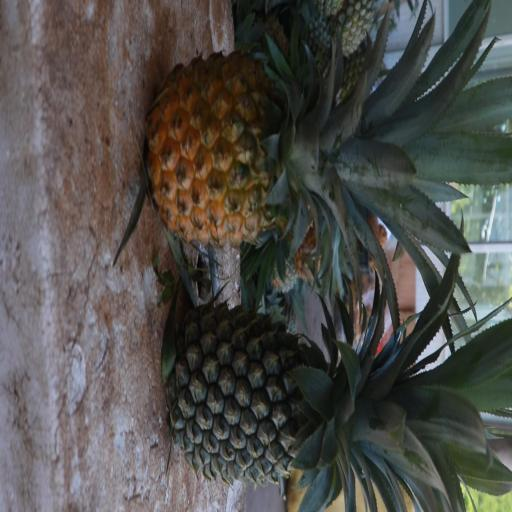Pineapple - v8 v1: (148, 64, 438, 246)
